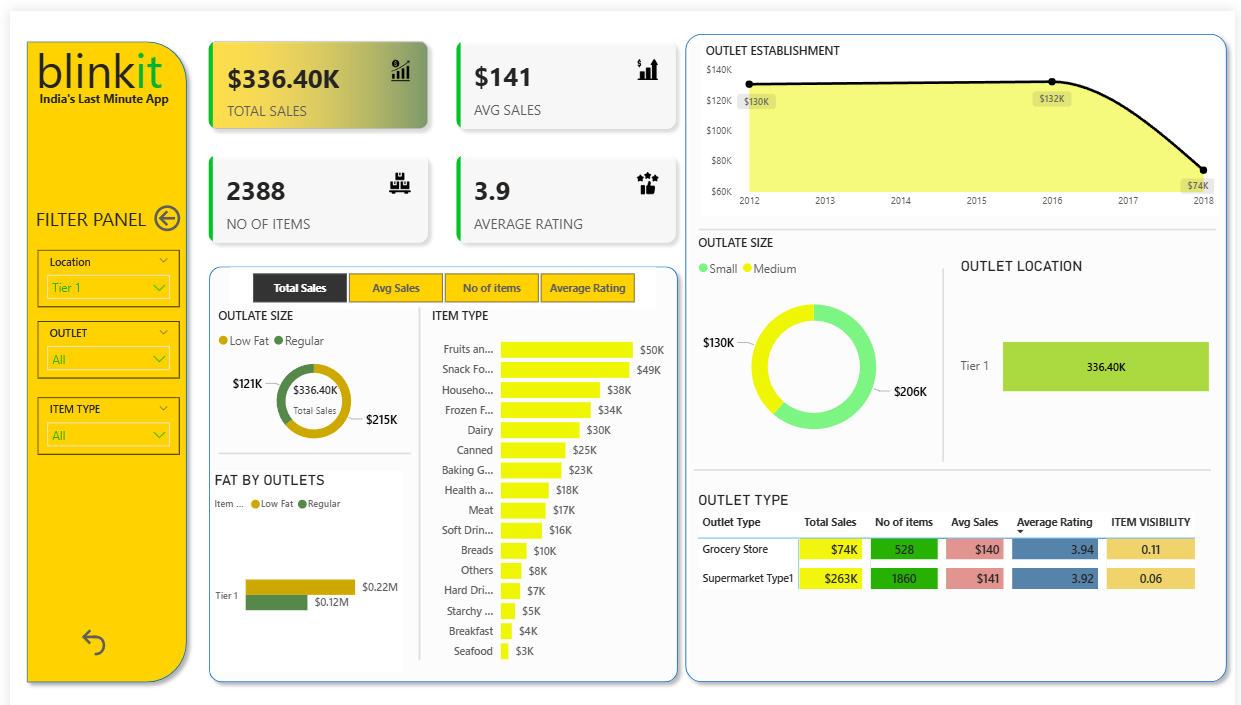

Layout of this report page (visuals, bound fields, positions):
{"tool":"powerbi","page":{"name":"Page 1","canvas":[1400,800],"ordinal":0},"visuals":[{"type":"shape","box":[9.4,25.5,201.1,750.7],"z":0},{"type":"textbox","box":[24.1,25.5,172.9,89.8],"z":1000},{"type":"textbox","box":[28.2,85.8,163.5,29.5],"z":2000},{"type":"cardVisual","fields":{"Data":["BlinkIT Grocery Data.Total Sales","BlinkIT Grocery Data.Avg Sales"]},"box":[210.5,17.4,569.7,135.4],"z":3000},{"type":"cardVisual","fields":{"Data":["BlinkIT Grocery Data.No of items","BlinkIT Grocery Data.Average Rating"]},"box":[210.5,147.5,569.7,135.4],"z":4000},{"type":"shape","box":[218.5,282.8,553.6,493.3],"z":5000},{"type":"slicer","title":"FAT CONTENT","fields":{"Values":["BlinkIT Grocery Data.Outlet Location Type"]},"box":[30.8,273.5,162.2,65.7],"z":6000},{"type":"slicer","fields":{"Values":["metrics.metrics"]},"box":[252,292.2,486.6,46.9],"z":7000},{"type":"cardVisual","fields":{"Data":["BlinkIT Grocery Data.Total Sales"]},"box":[298.9,406.2,100.5,76.4],"z":8000},{"type":"clusteredBarChart","title":"FAT BY OUTLETS","fields":{"Y":["BlinkIT Grocery Data.Average Rating"],"Category":["BlinkIT Grocery Data.Outlet Location Type"],"Series":["BlinkIT Grocery Data.Item Fat Content"]},"box":[229.2,525.5,219.8,230.6],"z":9000},{"type":"shape","box":[238.6,493.3,219.8,25.5],"z":10000},{"type":"shape","box":[458.4,339.1,18.8,403.5],"z":11000},{"type":"barChart","title":"ITEM TYPE","fields":{"Y":["BlinkIT Grocery Data.Average Rating"],"Category":["BlinkIT Grocery Data.Item Type"]},"box":[477.2,339.1,285.5,416.9],"z":12000},{"type":"shape","box":[762.7,17.4,636.7,758.7],"z":13000},{"type":"lineChart","title":"OUTLET ESTABLISHMENT","fields":{"Category":["BlinkIT Grocery Data.Outlet Establishment Year"],"Y":["BlinkIT Grocery Data.Total Sales"]},"box":[789.5,36.2,591.2,198.4],"z":14000},{"type":"shape","box":[786.9,234.6,591.2,30.8],"z":15000},{"type":"donutChart","title":"OUTLATE SIZE","fields":{"Y":["BlinkIT Grocery Data.Total Sales"],"Category":["BlinkIT Grocery Data.Outlet Size"]},"box":[781.5,256,274.8,254.7],"z":16000},{"type":"funnel","title":"OUTLET LOCATION","fields":{"Category":["BlinkIT Grocery Data.Outlet Location Type"],"Y":["Sum(BlinkIT Grocery Data.Sales)"]},"box":[1081.8,281.5,298.9,229.2],"z":17000},{"type":"shape","box":[947.7,294.9,238.6,221.2],"z":18000},{"type":"shape","box":[781.5,506.7,591.2,34.9],"z":19000},{"type":"pivotTable","title":"OUTLET TYPE","fields":{"Values":["BlinkIT Grocery Data.Total Sales","BlinkIT Grocery Data.No of items","BlinkIT Grocery Data.Avg Sales","BlinkIT Grocery Data.Average Rating","Avg(BlinkIT Grocery Data.Item Visibility)"],"Rows":["BlinkIT Grocery Data.Outlet Type"]},"box":[781.5,548.3,600.5,211.8],"z":20000},{"type":"slicer","title":"FAT CONTENT","fields":{"Values":["BlinkIT Grocery Data.Outlet Size"]},"box":[30.8,353.9,162.2,65.7],"z":21000},{"type":"donutChart","title":"OUTLATE SIZE","fields":{"Category":["BlinkIT Grocery Data.Item Fat Content"],"Y":["BlinkIT Grocery Data.Total Sales"]},"box":[233.2,339.1,229.2,167.6],"z":21001},{"type":"slicer","title":"FAT CONTENT","fields":{"Values":["BlinkIT Grocery Data.Item Type"]},"box":[30.8,441,162.2,65.7],"z":21002},{"type":"textbox","box":[30.8,215.8,152.8,49.6],"z":21003}]}

Visuals, with their boxes in screenshot pixels (x1, y1, x2, y2), scaled from the page's 1400x800 canvas onto the 1241x705 screenshot:
shape: Rect(8, 22, 187, 684)
textbox: Rect(21, 22, 175, 102)
textbox: Rect(25, 76, 170, 102)
cardVisual - BlinkIT Grocery Data.Total Sales x BlinkIT Grocery Data.Avg Sales: Rect(187, 15, 692, 135)
cardVisual - BlinkIT Grocery Data.No of items x BlinkIT Grocery Data.Average Rating: Rect(187, 130, 692, 249)
shape: Rect(194, 249, 684, 684)
"FAT CONTENT" slicer: Rect(27, 241, 171, 299)
slicer - metrics.metrics: Rect(223, 258, 655, 299)
cardVisual - BlinkIT Grocery Data.Total Sales: Rect(265, 358, 354, 425)
"FAT BY OUTLETS" clusteredBarChart: Rect(203, 463, 398, 666)
shape: Rect(212, 435, 406, 457)
shape: Rect(406, 299, 423, 654)
"ITEM TYPE" barChart: Rect(423, 299, 676, 666)
shape: Rect(676, 15, 1240, 684)
"OUTLET ESTABLISHMENT" lineChart: Rect(700, 32, 1224, 207)
shape: Rect(698, 207, 1222, 234)
"OUTLATE SIZE" donutChart: Rect(693, 226, 936, 450)
"OUTLET LOCATION" funnel: Rect(959, 248, 1224, 450)
shape: Rect(840, 260, 1052, 455)
shape: Rect(693, 447, 1217, 477)
"OUTLET TYPE" pivotTable: Rect(693, 483, 1225, 670)
"FAT CONTENT" slicer: Rect(27, 312, 171, 370)
"OUTLATE SIZE" donutChart: Rect(207, 299, 410, 447)
"FAT CONTENT" slicer: Rect(27, 389, 171, 447)
textbox: Rect(27, 190, 163, 234)
